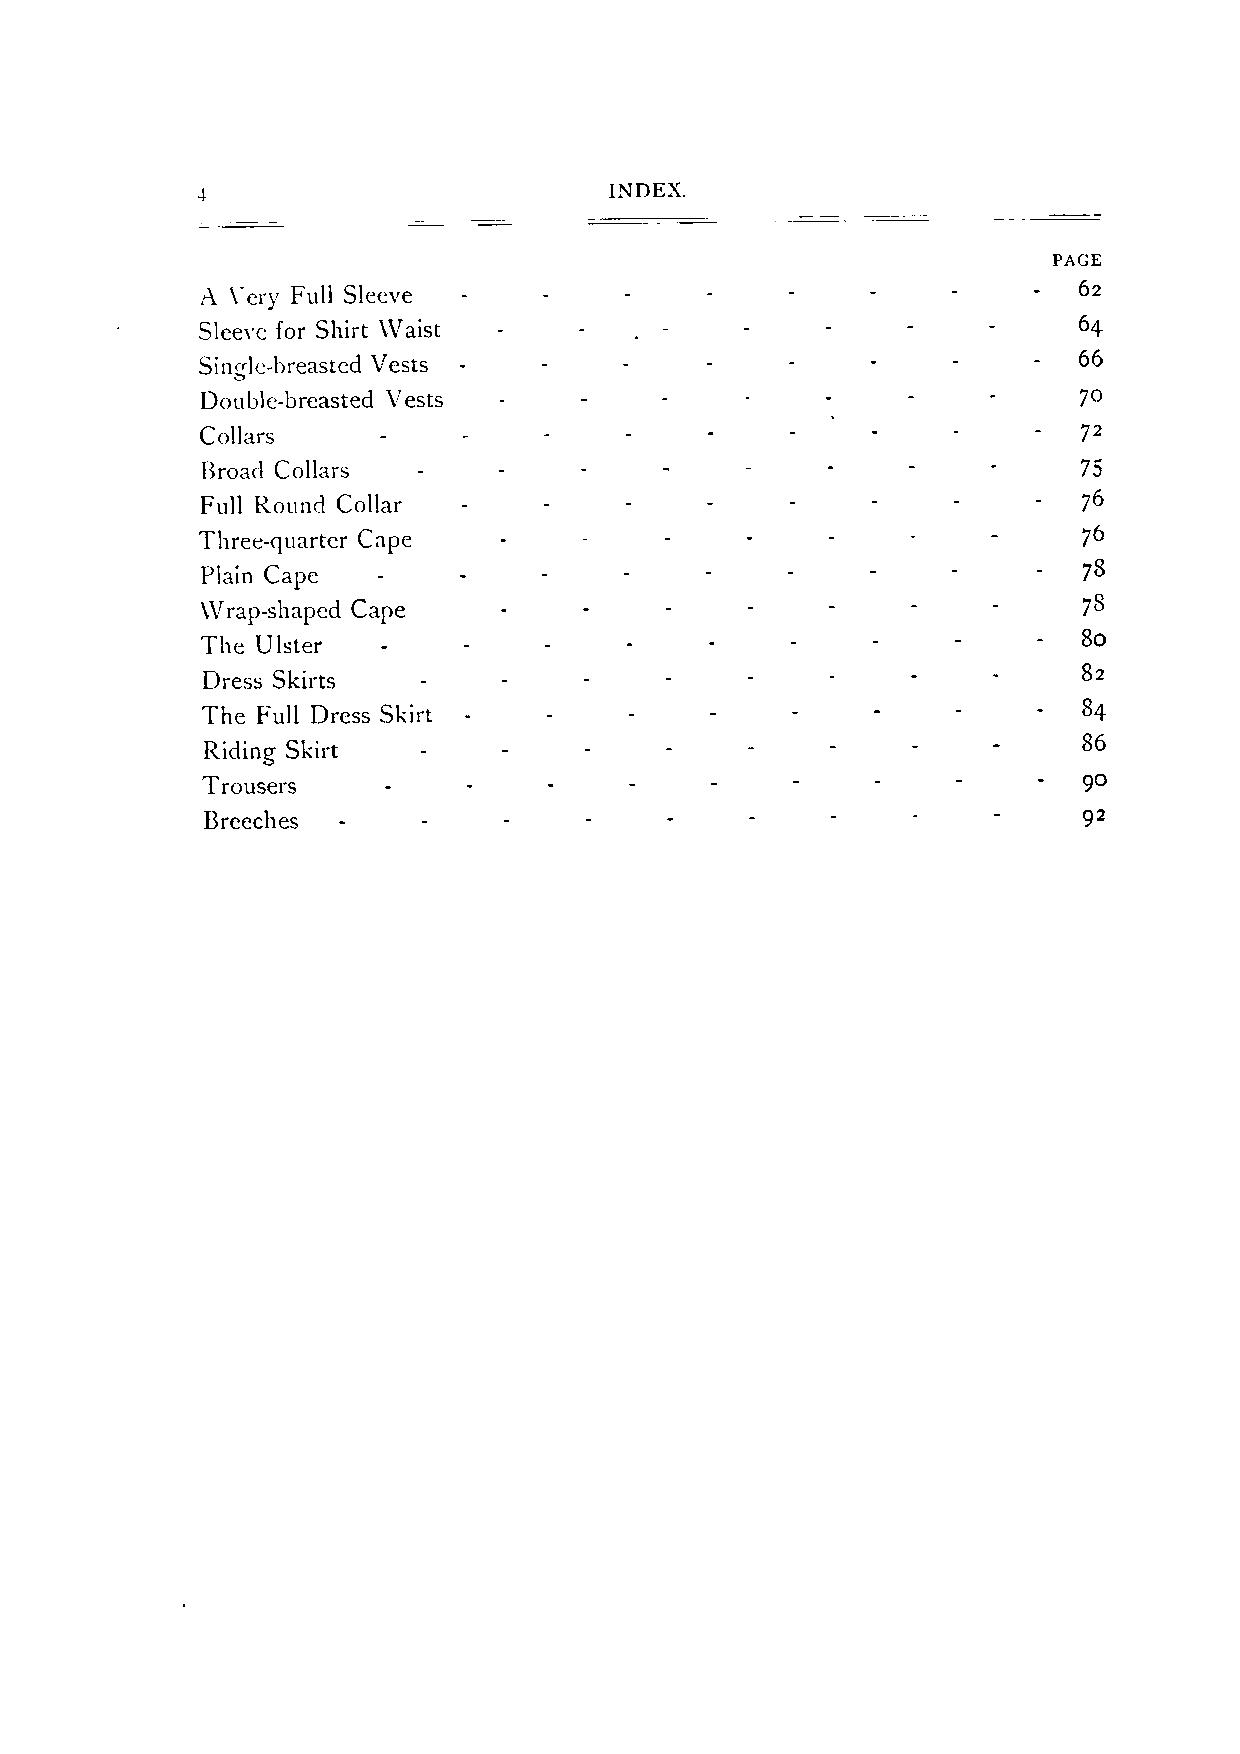TOC_chapter: (191, 272, 417, 309), (195, 380, 446, 412), (191, 315, 448, 344), (199, 698, 433, 727), (195, 348, 433, 376), (196, 523, 417, 552), (195, 491, 407, 515), (196, 597, 407, 621), (200, 454, 352, 482), (199, 558, 319, 592), (193, 629, 325, 656), (201, 735, 340, 761), (199, 664, 337, 688), (196, 769, 303, 794), (191, 421, 283, 450), (201, 809, 303, 833)
TOC_pagenumber: (1079, 621, 1107, 656), (1076, 727, 1107, 757), (1076, 556, 1108, 584), (1079, 692, 1108, 721), (1076, 309, 1104, 336), (1078, 420, 1108, 444), (1083, 768, 1107, 798), (1076, 272, 1104, 298), (1076, 382, 1104, 408), (1076, 344, 1104, 368), (1078, 522, 1106, 546), (1075, 487, 1106, 509), (1079, 593, 1104, 619), (1079, 660, 1104, 684), (1082, 805, 1107, 829), (1079, 454, 1103, 478)
chapter: (605, 178, 684, 208)
